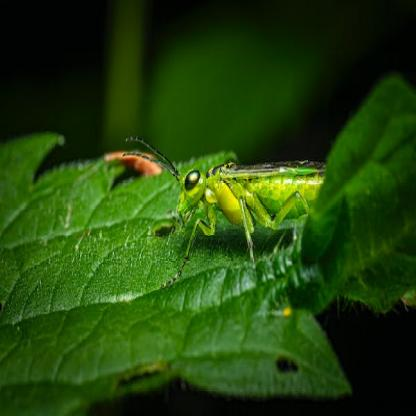sawfly: (121, 133, 354, 278)
